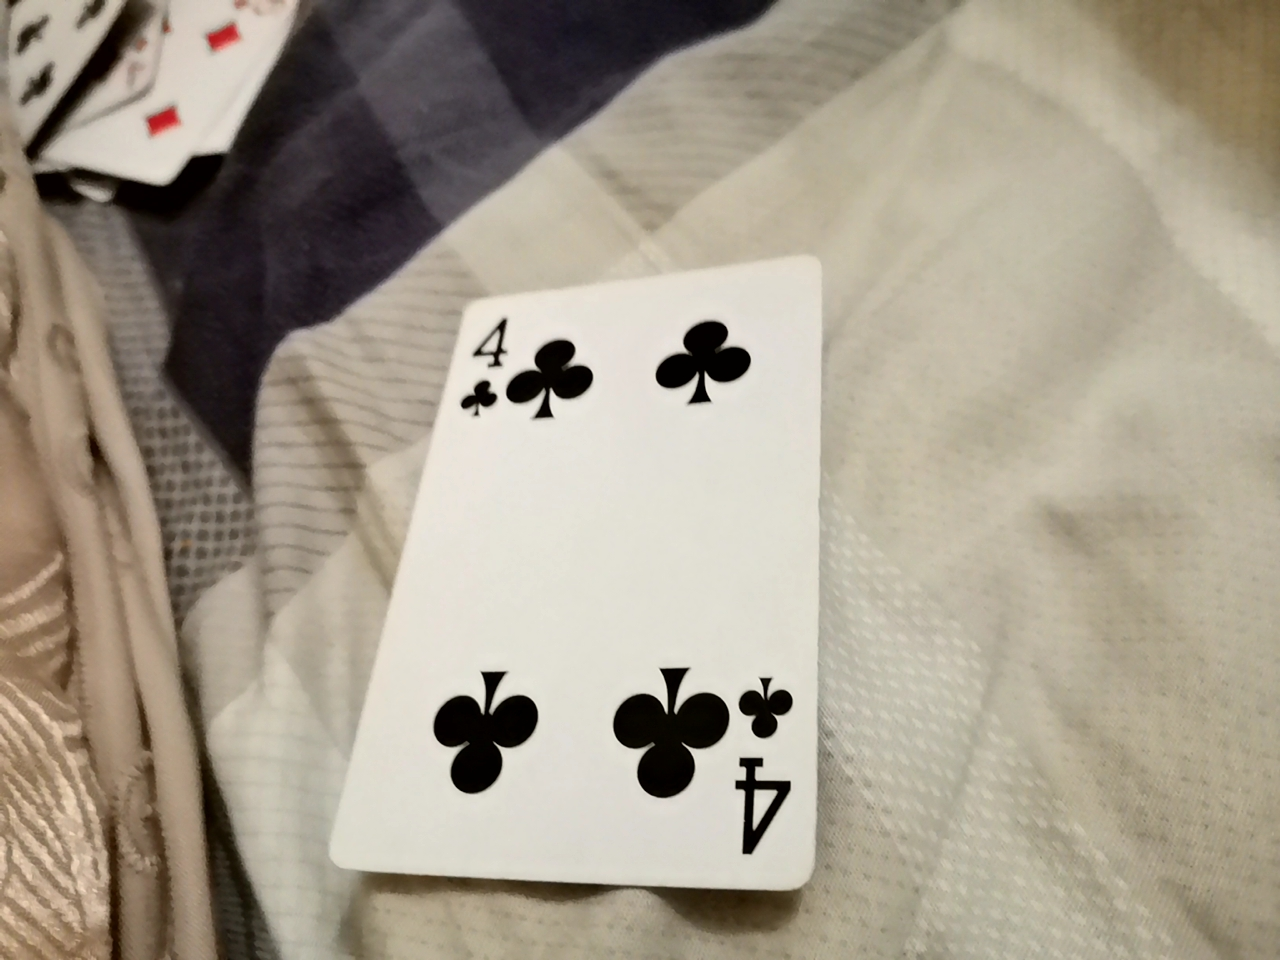mh 4: (340, 256, 822, 911)
